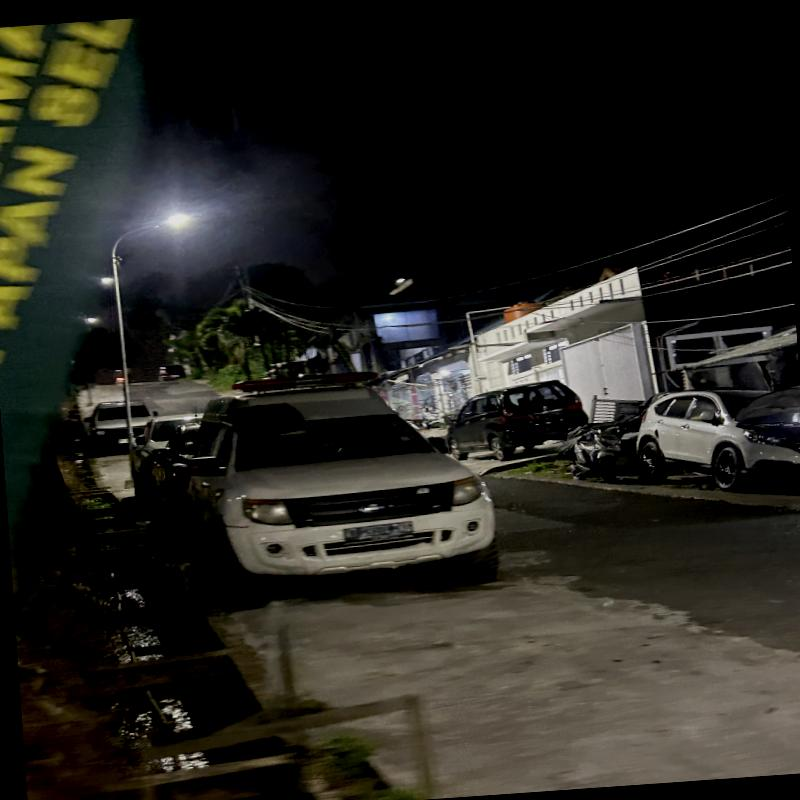license plate on a car: (347, 524, 412, 542)
